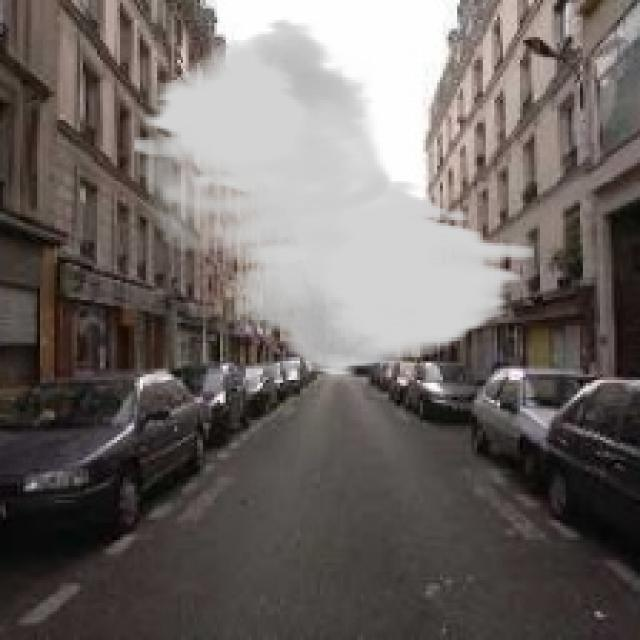smoke: (132, 17, 534, 377)
